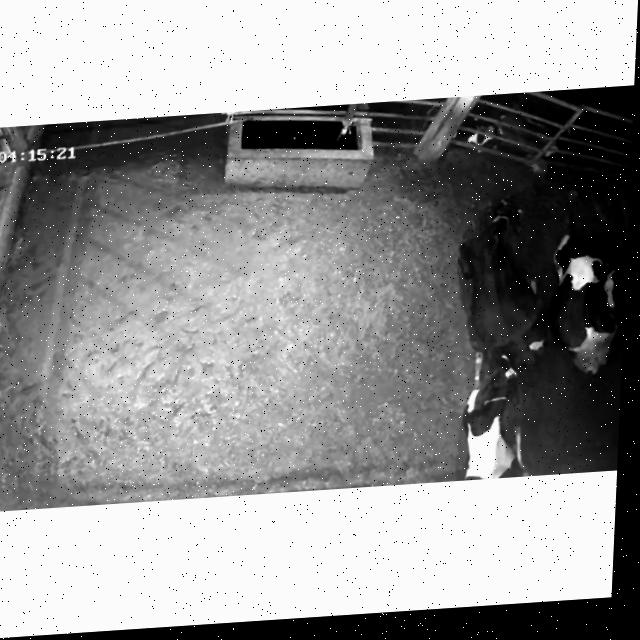lay: (428, 192, 558, 378), (548, 204, 629, 380), (459, 342, 542, 480)
